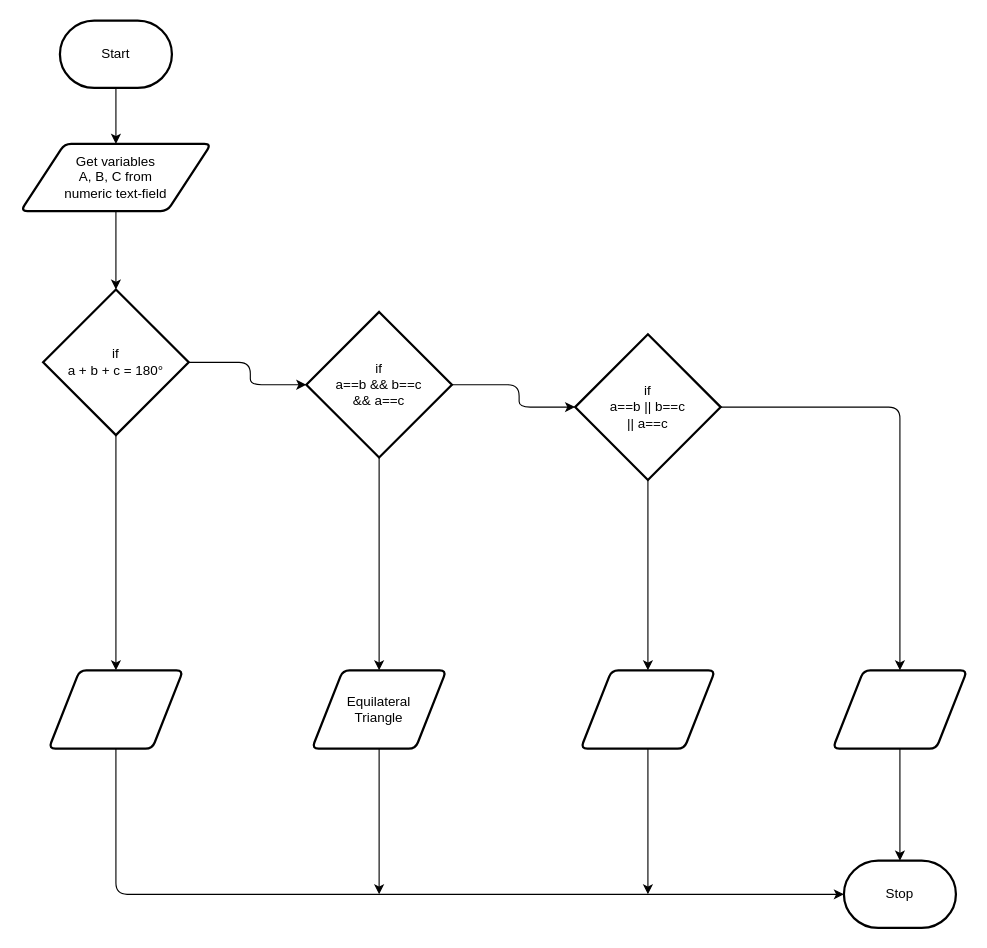
Image size: 987x948. Some labels were removed from this diagram. Here are the shapes that lost their labels. From the top down, the box of each, then its label:
(47, 669, 184, 749): not a triangle
(579, 669, 716, 749): Isosceles Triangle
(831, 669, 968, 749): Scalene Triangle
